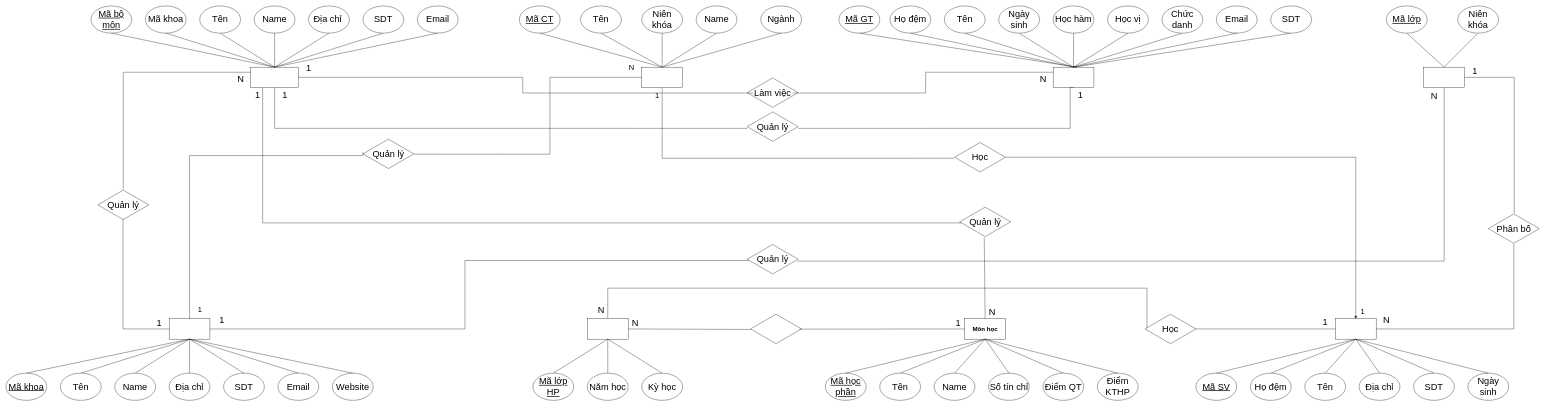
The diagram is 1545 pixels wide and 406 high, and some of its shapes have lost their labels. The shapes that lost their labels are listed below. From the top down, each one's centre as x and y in pixels, then its label:
pixel 274 77: Bộ môn
pixel 662 77: Chương trình đào tạo
pixel 1073 77: Giảng viên
pixel 1444 77: Lớp
pixel 189 328: Khoa
pixel 607 328: Lớp học phân
pixel 776 328: Dạy
pixel 1355 328: Sinh viên
